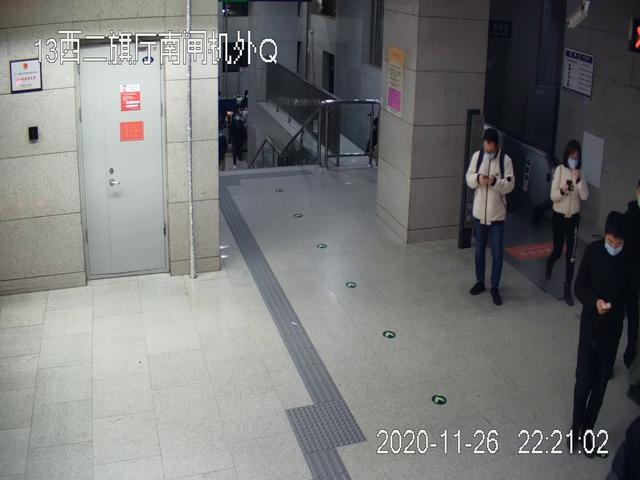person: (568, 213, 640, 458), (464, 129, 514, 307), (541, 139, 589, 306)
